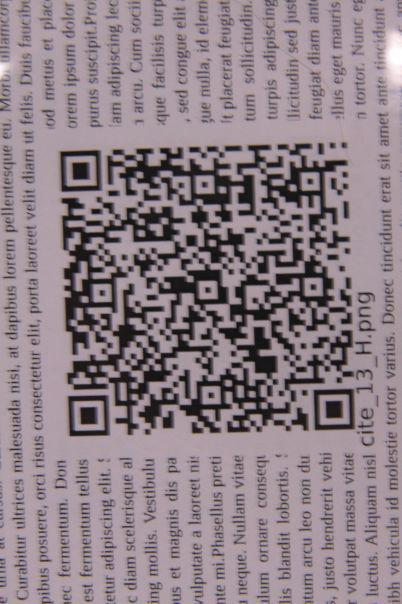Finder pattern: (309, 383, 362, 435), (63, 392, 118, 442), (56, 146, 110, 195)
